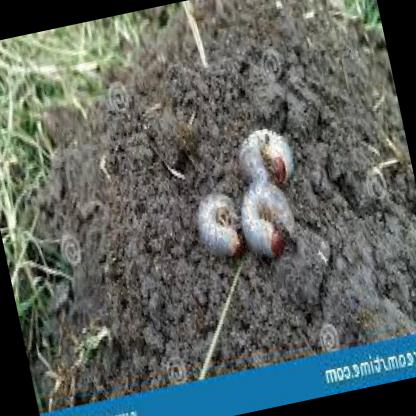root grubs: (240, 182, 296, 260), (237, 127, 295, 188), (197, 192, 236, 256)
